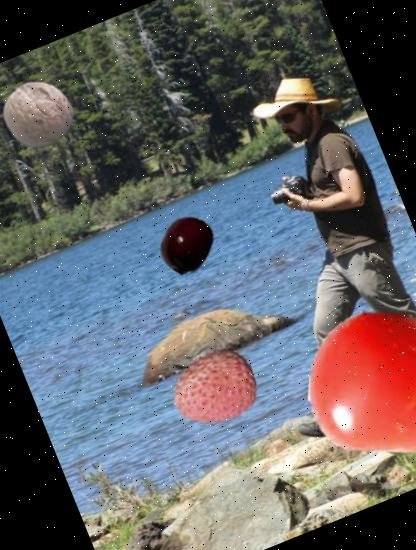Cherry: (149, 206, 226, 282)
Lychee: (158, 331, 270, 443)
Tomato: (286, 285, 416, 478)
Walnut: (0, 68, 82, 158)
